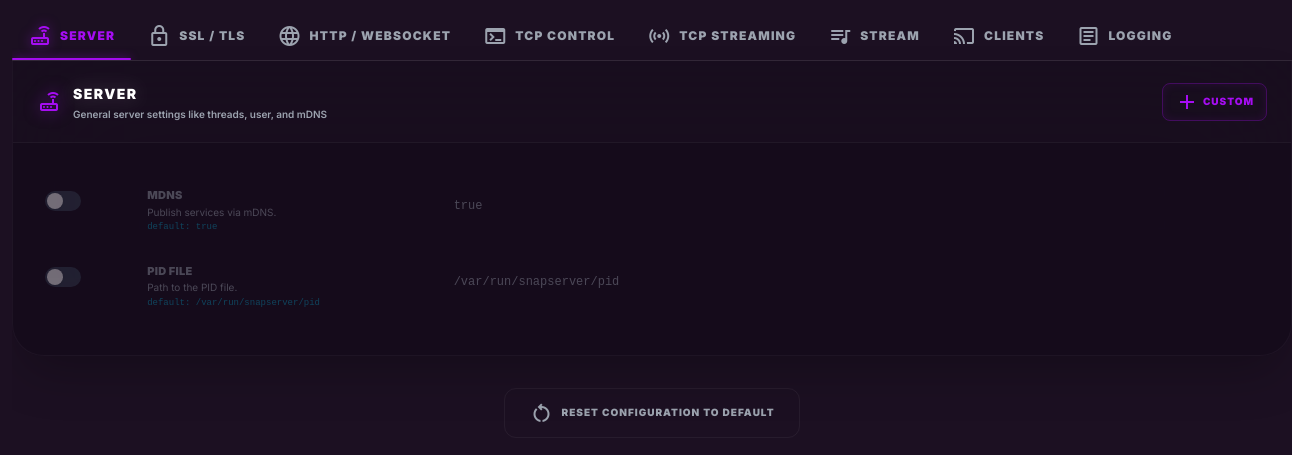
Test: StandardTab.vue › renders the section-switcher tabs and switches the active section on click
This screenshot has width=1292, height=455.
Click the button "HTTP / WebSocket" at (364, 36), box left=262, top=12, right=467, bottom=60
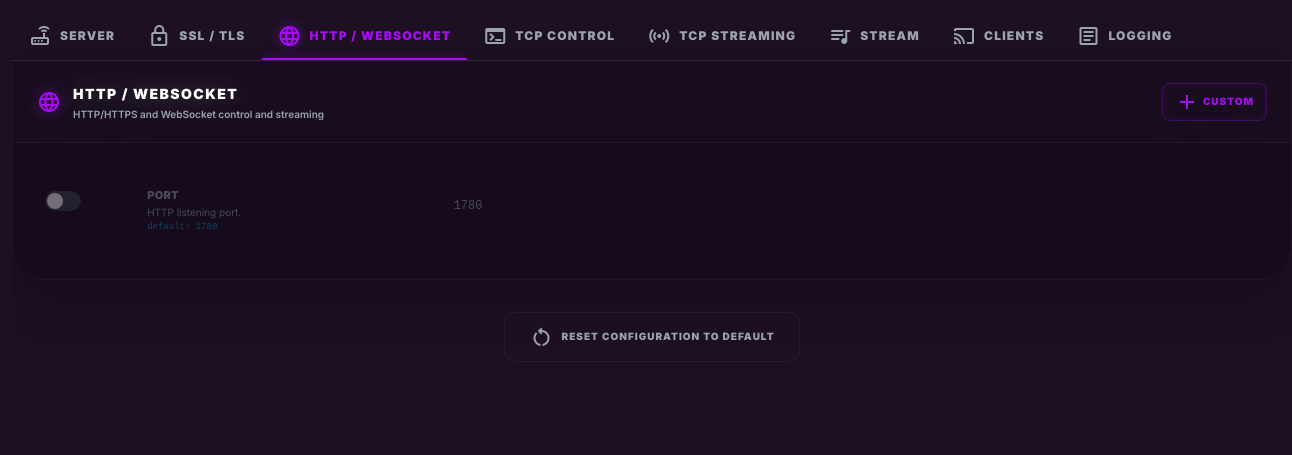
Now the text "HTTP/HTTPS and WebSocket control and streaming" is shown, box left=73, top=107, right=324, bottom=122
